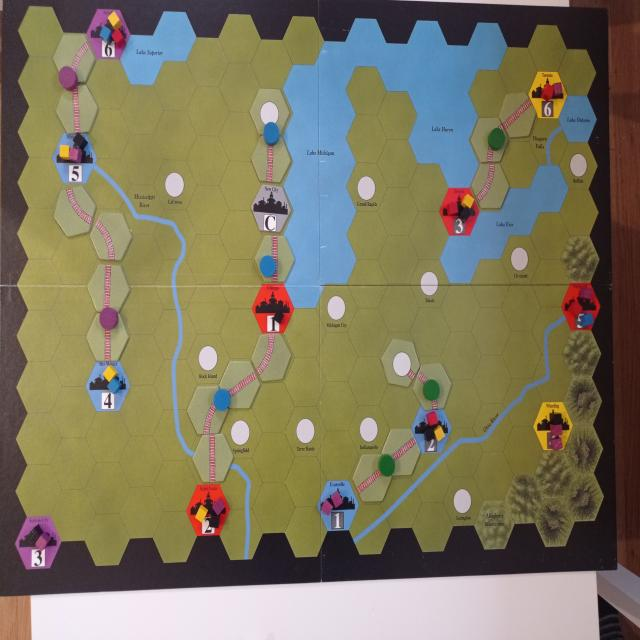13_2: (250, 88, 290, 135)
13_3: (380, 338, 420, 388)
18_0: (250, 184, 292, 233)
2_1: (52, 32, 96, 83), (187, 386, 229, 434), (471, 117, 509, 162)
2_2: (54, 186, 96, 237)
2_4: (251, 333, 292, 381), (471, 163, 510, 209)
2_5: (90, 212, 132, 260), (413, 363, 451, 411)
3_0: (219, 361, 260, 409), (381, 428, 421, 476), (353, 454, 392, 502), (499, 92, 536, 137)
3_1: (86, 313, 129, 361), (88, 264, 130, 313), (56, 85, 98, 133), (193, 434, 234, 482), (251, 134, 291, 183), (255, 235, 295, 282)
